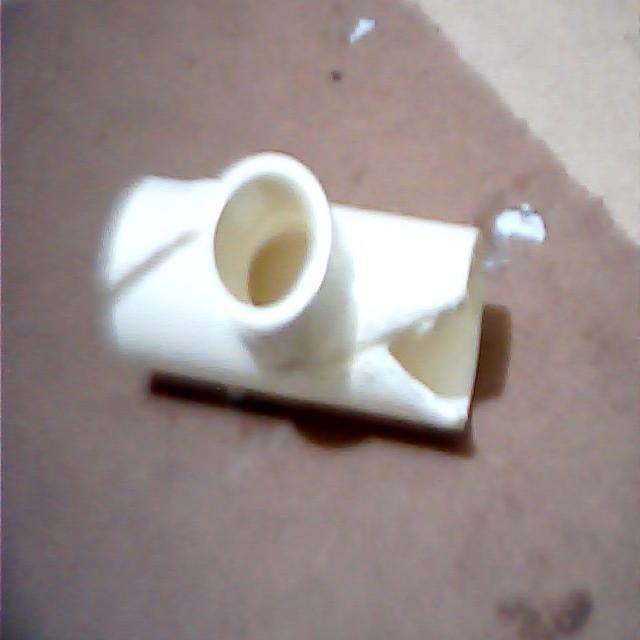Defective: (352, 256, 482, 430), (370, 265, 485, 429), (94, 214, 183, 314), (107, 232, 198, 317)
T Joint: (92, 152, 493, 455)
